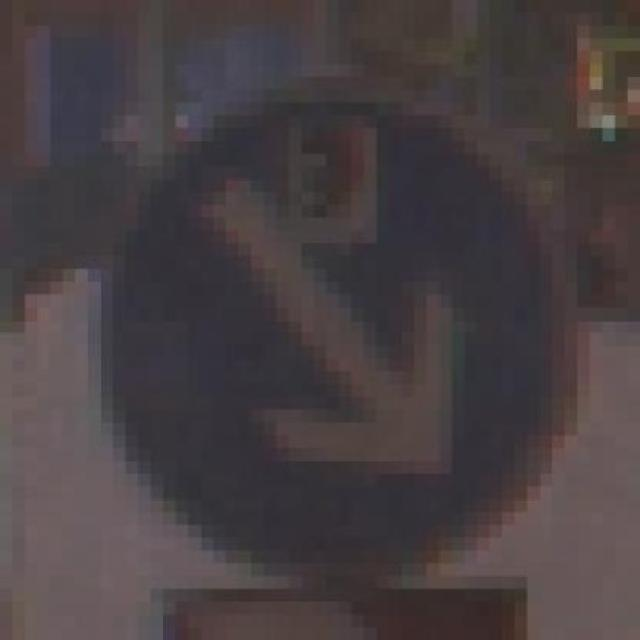Keep-Right: (62, 90, 602, 588)
